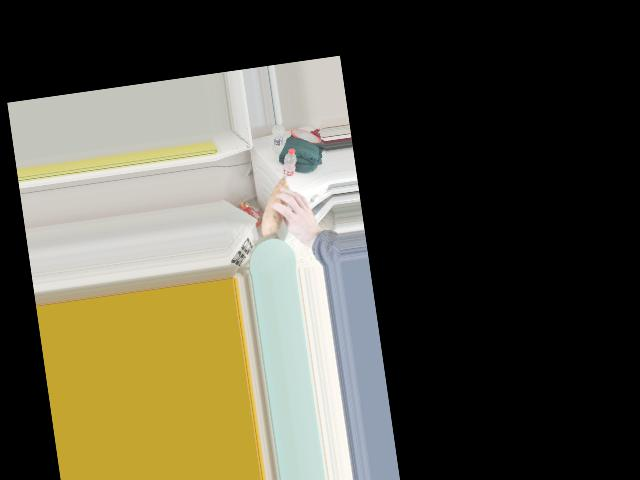sweet_potato: (256, 178, 302, 227)
